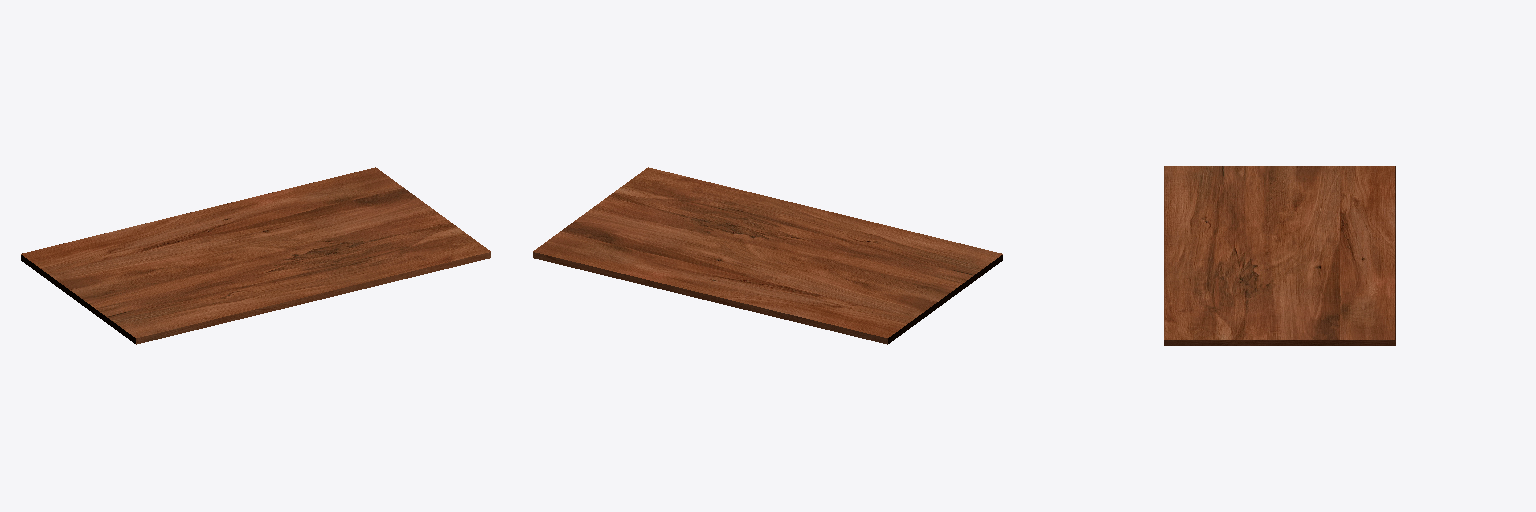
3 renders of one model, left to right at view 1: azimuth 30°, elevation 25°; view 2: azimuth 150°, elevation 25°; view 3: azimuth 270°, elevation 25°, orthographic.
Parts seen in each view (by area): view 1: Plane; view 2: Plane; view 3: Plane.
Boxes of the visible parts, box(x1,y1,x2,y2) form: Plane: box(21, 167, 490, 344); Plane: box(533, 167, 1002, 344); Plane: box(1164, 166, 1395, 345).
Size of the model in its own units: 24.01 by 0.4 by 13.52.
Materials: 1 (1 with a texture image).